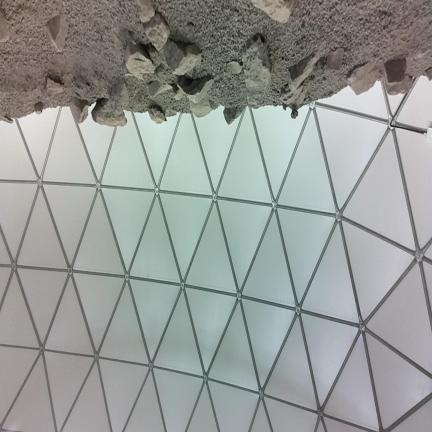Rock: (243, 34, 270, 106), (288, 43, 325, 90), (178, 75, 214, 117), (163, 39, 201, 75), (348, 62, 380, 94), (125, 42, 154, 77), (178, 75, 213, 103), (385, 58, 412, 94), (144, 13, 170, 50), (92, 99, 127, 126), (252, 0, 293, 22), (46, 15, 68, 52), (110, 78, 128, 110), (385, 75, 412, 95), (385, 58, 406, 83), (70, 98, 89, 123), (190, 97, 213, 117), (281, 86, 302, 105), (326, 48, 344, 70), (137, 0, 154, 22), (149, 81, 171, 97), (0, 8, 10, 42), (295, 84, 309, 106), (45, 78, 63, 95), (224, 108, 243, 124), (149, 107, 166, 123), (227, 61, 242, 74), (173, 84, 184, 100), (0, 114, 13, 123), (165, 108, 177, 117), (35, 102, 43, 114), (291, 106, 298, 119), (425, 68, 431, 80)
